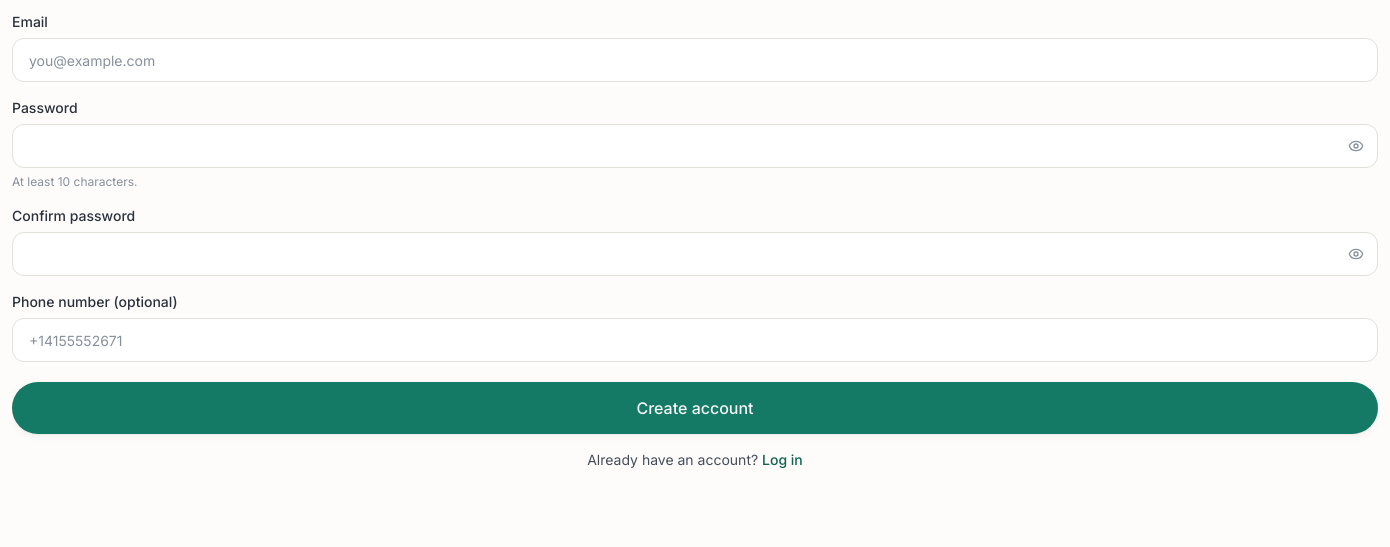
SignupForm › shows the duplicate-email message on 409 EMAIL_ALREADY_REGISTERED
The width and height of the screenshot is (1390, 547).
Type "user@example.com" into the field labelled "Email" at (695,60), box [12, 38, 1378, 82]
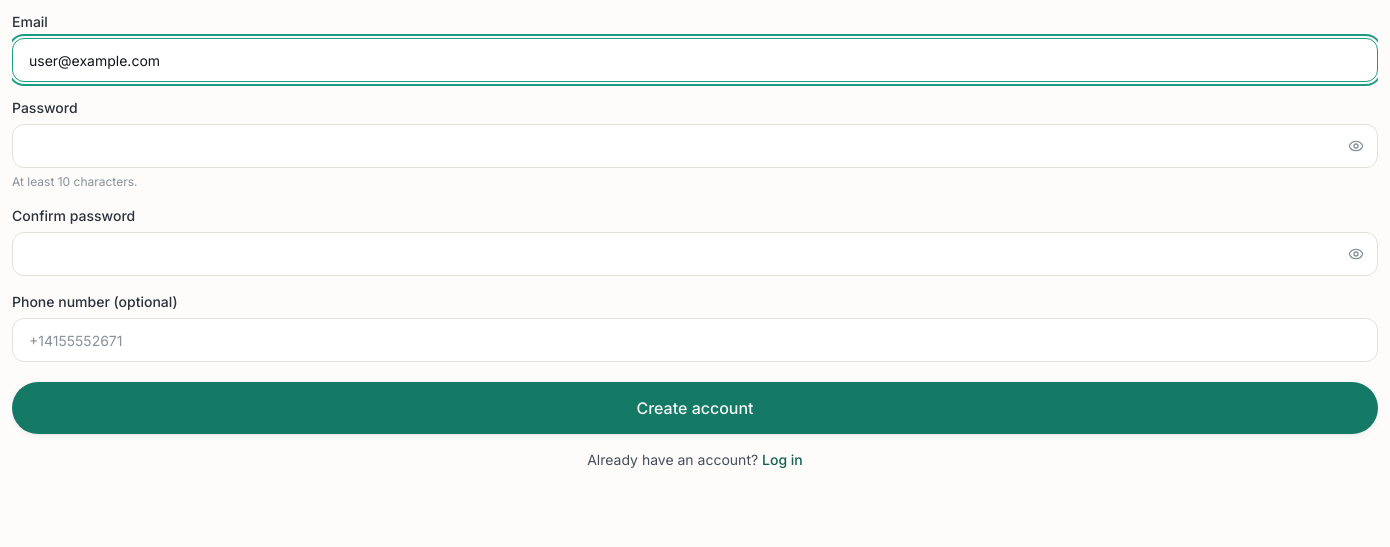
Type "longenoughpassword" into the password field labelled "Password" at (695,146), box [12, 124, 1378, 168]
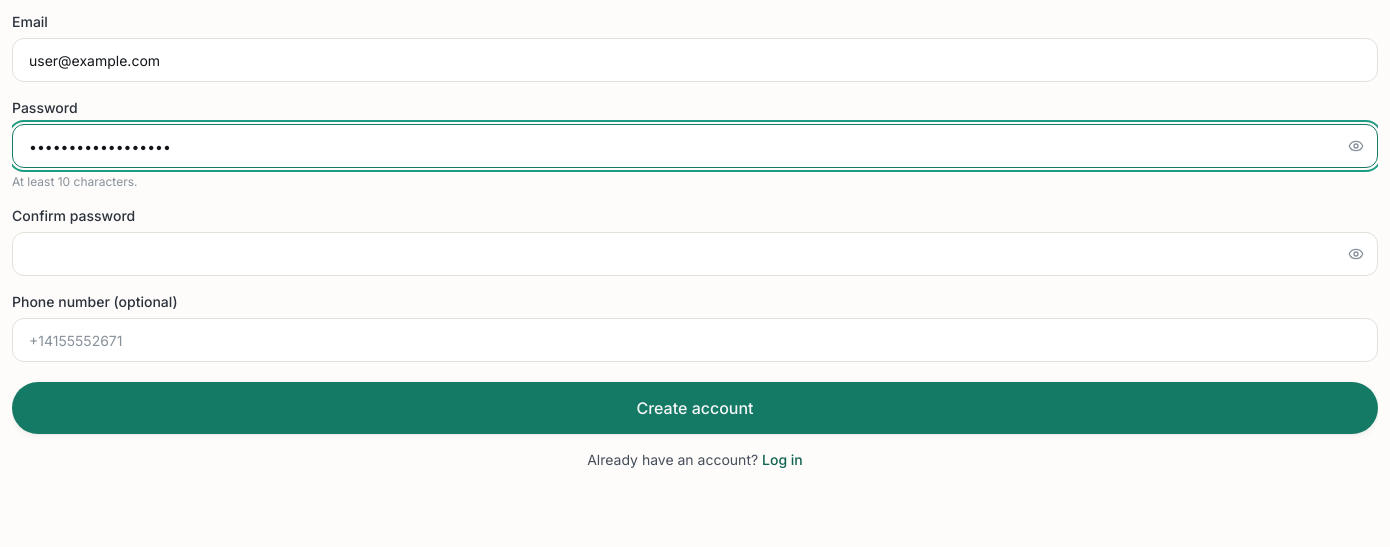
Type "longenoughpassword" into the password field labelled "Confirm password" at (695,254), box [12, 232, 1378, 276]
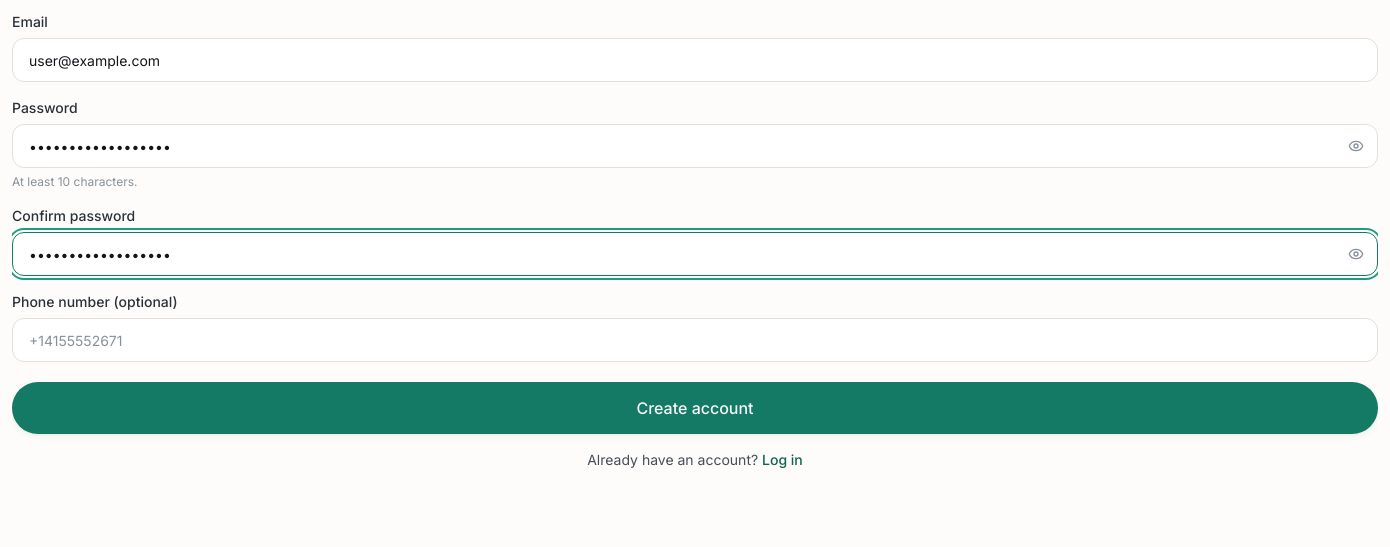
Click the button "Create account" at (695,408), box [12, 382, 1378, 434]
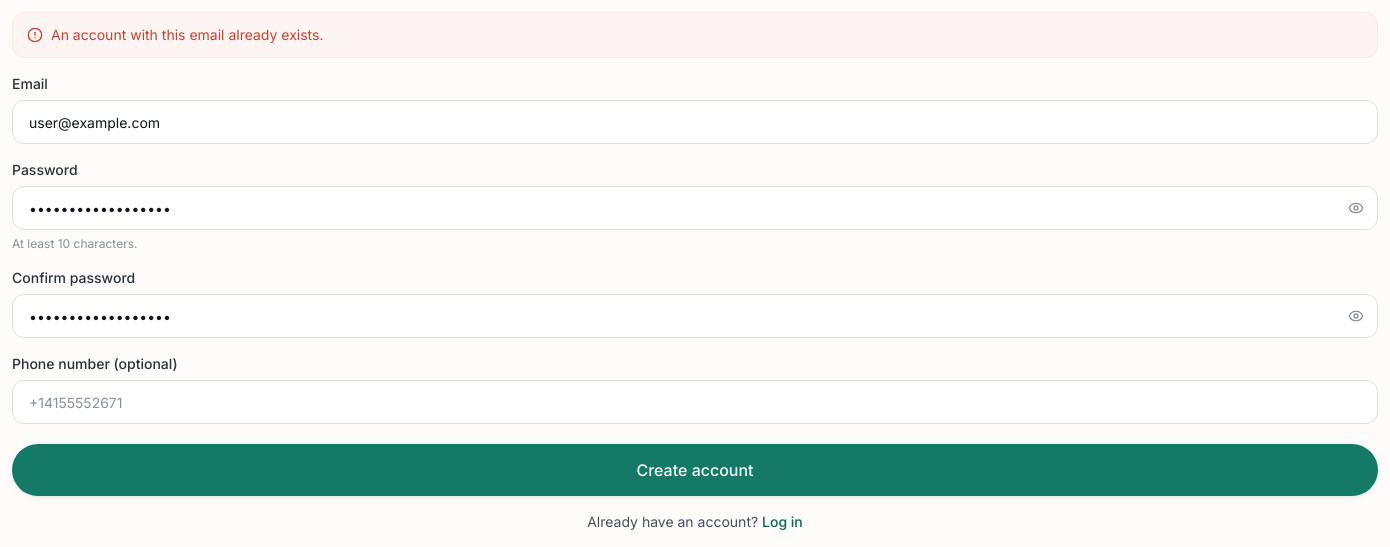
expect the message shows "already exists": met, box [51, 26, 324, 43]
